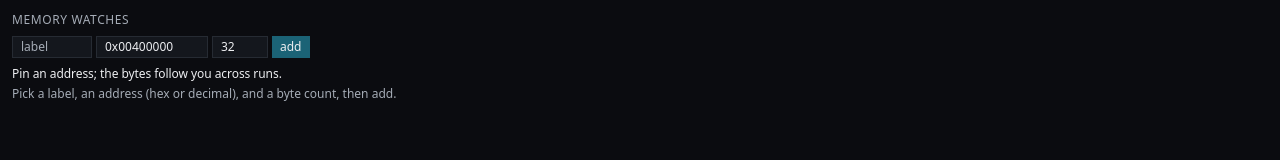
Test: MemoryWatches › adds a watch and renders its hex and ascii rows from getMemory
The width and height of the screenshot is (1280, 160).
Type "buf" into the field named "watch label" at (52, 47), box 12,36 -> 92,58
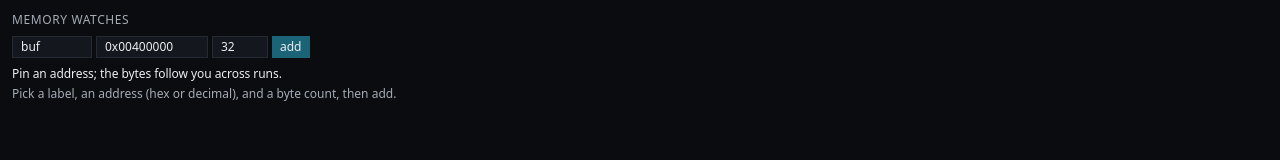
Type "0x00600000" into the field named "watch address" at (152, 47), box 96,36 -> 208,58
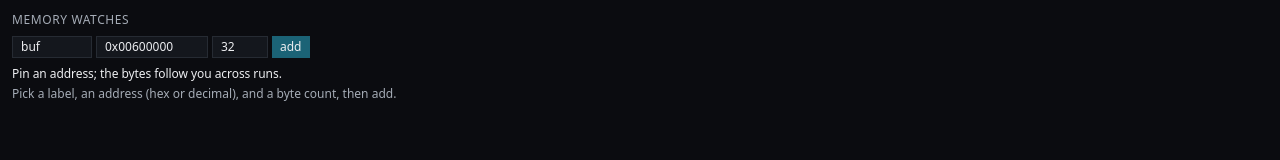
Replace the text in the number field named "watch byte length" with "4" at (240, 47), box 212,36 -> 268,58
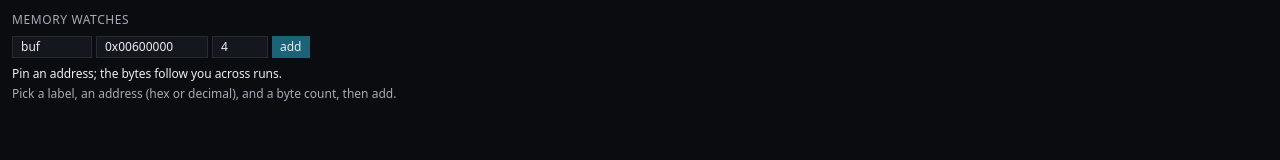
Click the button "add" at (291, 47), box 272,36 -> 310,58
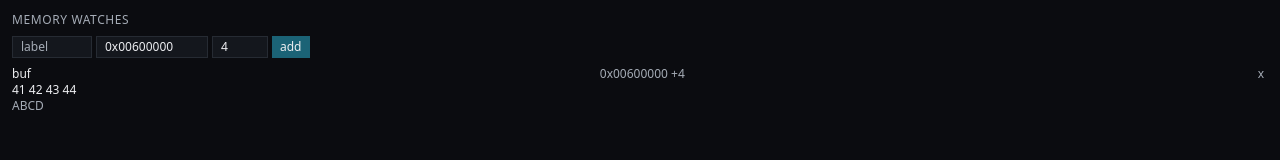
Now the text "buf" is shown, box 12,66 -> 31,82
Now the text "0x00600000 +4" is shown, box 600,66 -> 685,82
Now the text "41 42 43 44" is shown, box 12,81 -> 76,98
